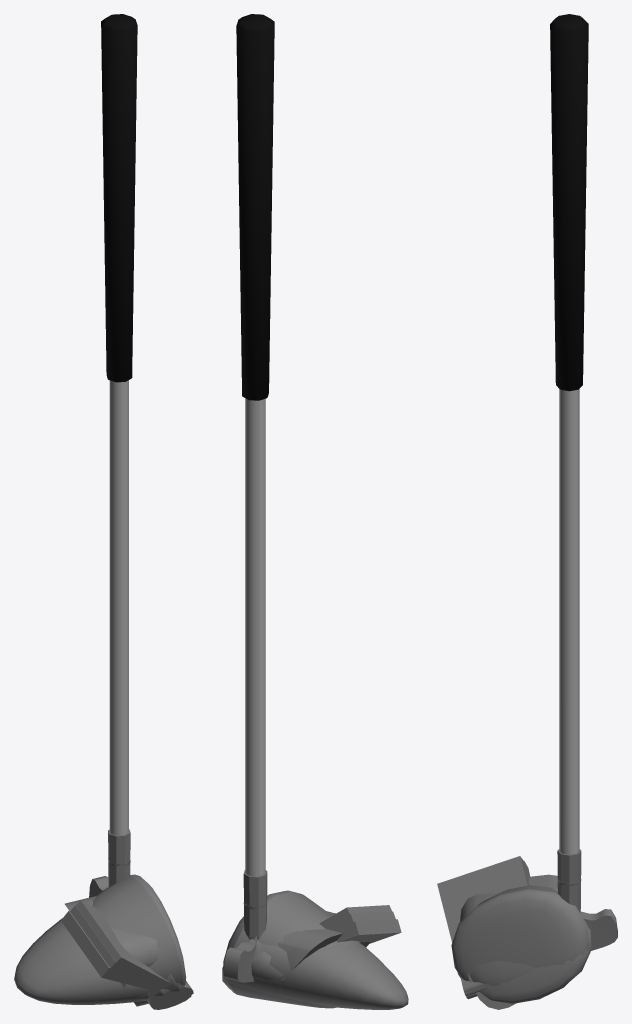
The model's file is Golf_Club2.fbx.
The picture shows the model from 3 angles, left to right: view 1: azimuth 30°, elevation 25°; view 2: azimuth 150°, elevation 25°; view 3: azimuth 270°, elevation 25°; orthographic projection. The views are drawn at different scales.
Visible parts, largest first — view 1: Handle, Shaft, Wood3.RH, Driver.RH, GAP.RH, SW.RH, Lob.RH, PW.RH, Iron6.RH; view 2: Handle, Shaft, Wood3.RH, Driver.RH, HeadHolder, Lob.RH, Putter.RH, Iron9.RH, GAP.RH, Hybrid.RH, PW.RH; view 3: Handle, Shaft, Driver.RH, GAP.RH, Wood3.RH, Putter.RH, Wood5.RH, HeadHolder.
Boxes of the visible parts, box(x1,y1,x2,y2) form: Handle: box(101, 14, 137, 382); Shaft: box(109, 380, 128, 835); Wood3.RH: box(14, 918, 183, 1004); Driver.RH: box(92, 833, 186, 985); GAP.RH: box(76, 900, 191, 1009); SW.RH: box(70, 905, 193, 1008); Lob.RH: box(61, 911, 193, 1001); PW.RH: box(76, 901, 165, 1006); Iron6.RH: box(93, 896, 153, 1003); Handle: box(236, 14, 274, 400); Shaft: box(245, 398, 265, 876); Wood3.RH: box(222, 943, 408, 1009); Driver.RH: box(223, 872, 360, 1008); HeadHolder: box(243, 870, 267, 939); Lob.RH: box(331, 919, 401, 943); Putter.RH: box(223, 900, 267, 982); Iron9.RH: box(278, 929, 370, 987); GAP.RH: box(319, 905, 390, 929); Hybrid.RH: box(251, 951, 283, 980); PW.RH: box(320, 905, 392, 929); Handle: box(550, 14, 588, 391); Shaft: box(559, 389, 579, 854); Driver.RH: box(451, 851, 588, 1002); GAP.RH: box(437, 856, 527, 999); Wood3.RH: box(457, 927, 591, 1003); Putter.RH: box(557, 879, 617, 950); Wood5.RH: box(470, 912, 587, 986); HeadHolder: box(557, 849, 581, 912).
Bounding box in the file's own units: 0.1122 × 0.6674 × 0.1121.
Materials: 1 (1 with a texture image).
